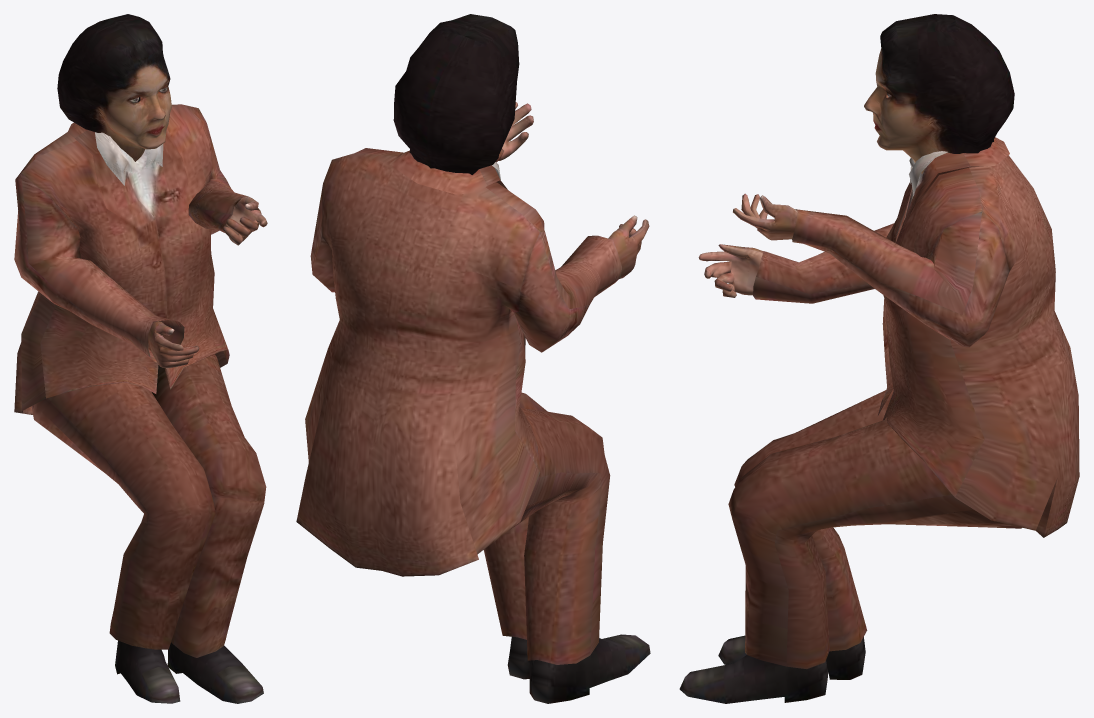
The picture shows the model from 3 angles, left to right: view 1: azimuth 30°, elevation 25°; view 2: azimuth 150°, elevation 25°; view 3: azimuth 270°, elevation 25°; orthographic projection. The views are drawn at different scales.
Parts seen in each view (by area): view 1: 老外057ok; view 2: 老外057ok; view 3: 老外057ok.
Part boxes in pixels (x1,y1,x2,y2): 老外057ok: (14,14,267,703); 老外057ok: (296,14,650,703); 老外057ok: (679,14,1079,703).
Bounding box in the file's own units: 50.31 × 135 × 73.25.
